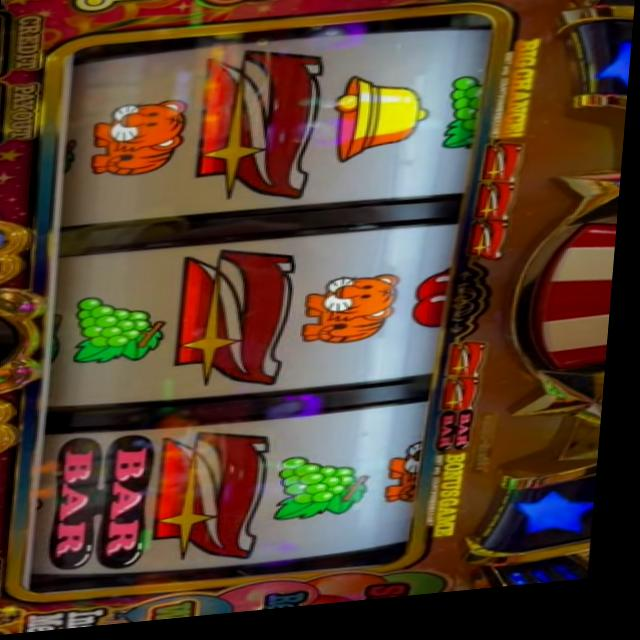bar: (50, 435, 165, 579), (444, 420, 480, 461)
bell: (330, 78, 431, 171)
cherry: (418, 278, 455, 341)
display: (28, 17, 500, 596)
grape: (75, 292, 176, 370), (279, 457, 384, 530), (440, 85, 487, 162)
tiger: (93, 101, 192, 181), (308, 278, 409, 353), (392, 449, 431, 512)
z: (199, 51, 325, 209), (179, 252, 298, 393), (164, 431, 274, 571), (480, 153, 528, 195), (453, 351, 495, 390), (443, 389, 486, 422), (481, 193, 518, 231), (474, 233, 511, 270)
